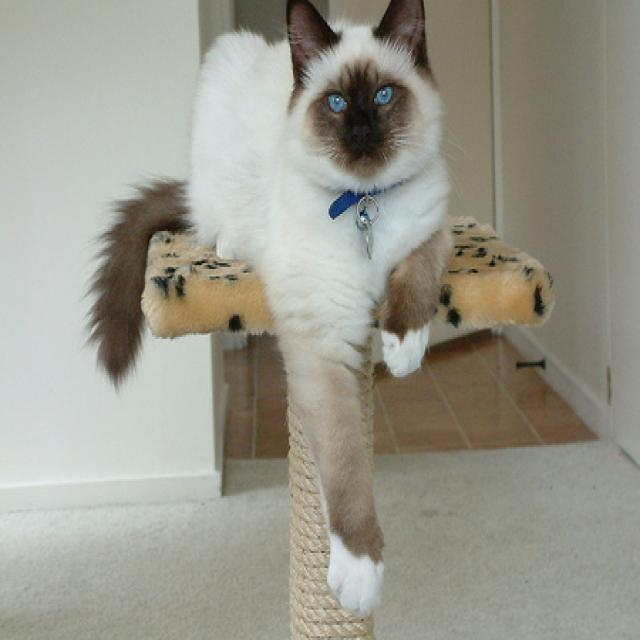Birman: (90, 0, 457, 621)
